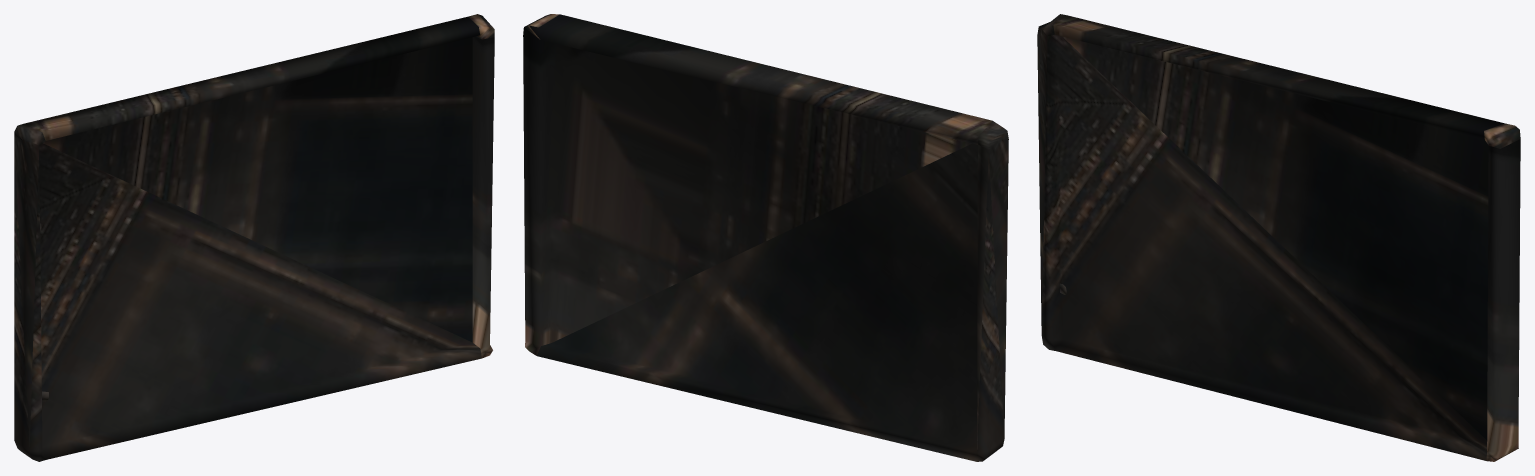
The model's file is hospital sign8.fbx.
3 renders of one model, left to right at view 1: azimuth 30°, elevation 25°; view 2: azimuth 150°, elevation 25°; view 3: azimuth 330°, elevation 25°, orthographic.
Visible parts, largest first — view 1: hospital sign8; view 2: hospital sign8; view 3: hospital sign8.
Boxes of the visible parts, left/top/right/bottom form: hospital sign8: left=14, top=14, right=494, bottom=461; hospital sign8: left=523, top=14, right=1008, bottom=461; hospital sign8: left=1037, top=14, right=1520, bottom=461.
Size of the model in its own units: 448 by 301 by 30.65.
